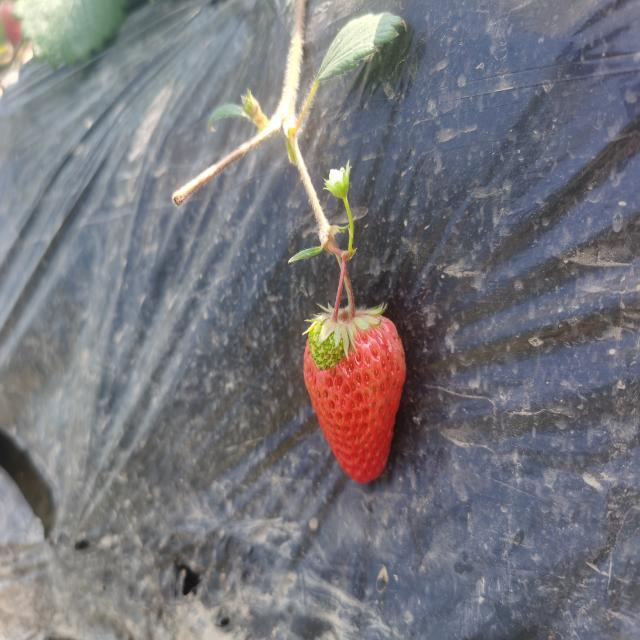stem: (345, 276, 355, 322)
strawberry: (303, 309, 406, 482)
